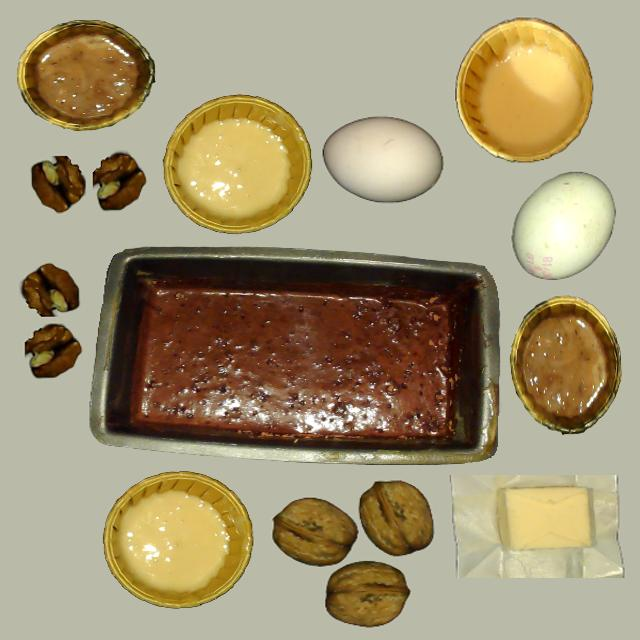Walnut: (272, 498, 355, 566), (359, 481, 434, 555), (324, 561, 408, 626)
